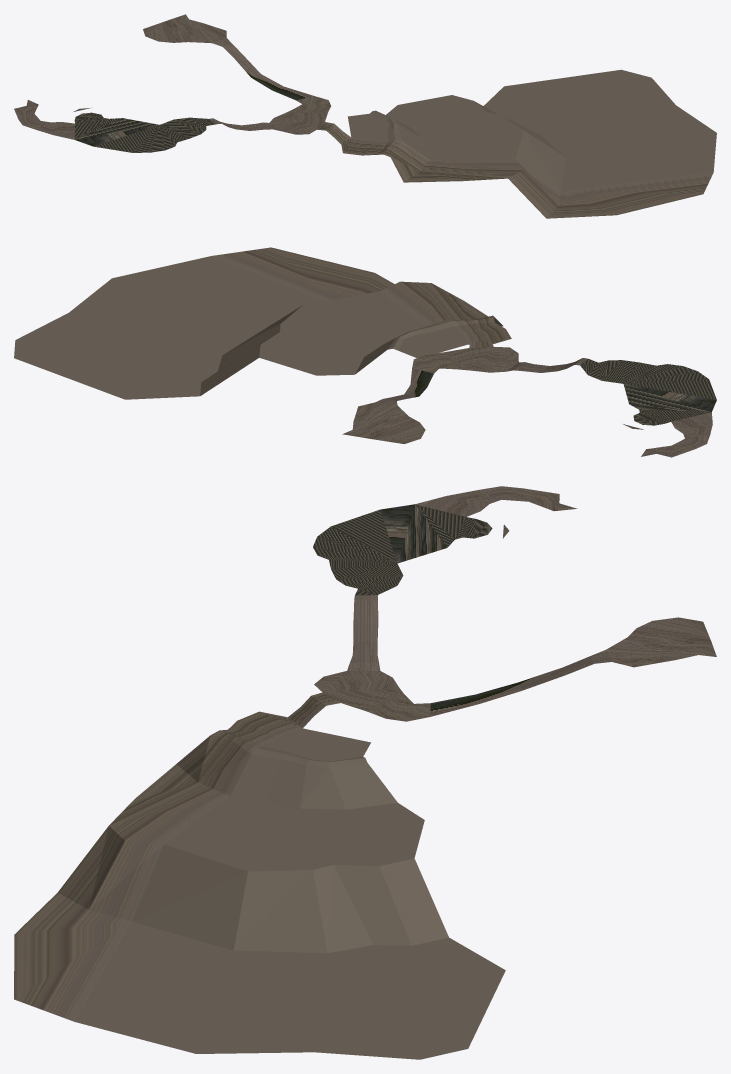
The model's file is collider.FBX.
3 views of the same model, one above another, from view 1: azimuth 30°, elevation 25°; view 2: azimuth 150°, elevation 25°; view 3: azimuth 270°, elevation 25° (orthographic). The views are drawn at different scales.
Parts seen in each view (by area): view 1: collider; view 2: collider; view 3: collider.
Part boxes in pixels (x1=…): collider: x1=14, y1=14, x2=716, y2=218; collider: x1=14, y1=247, x2=716, y2=457; collider: x1=14, y1=486, x2=716, y2=1059.
Size of the model in its own units: 171 by 22.37 by 113.
